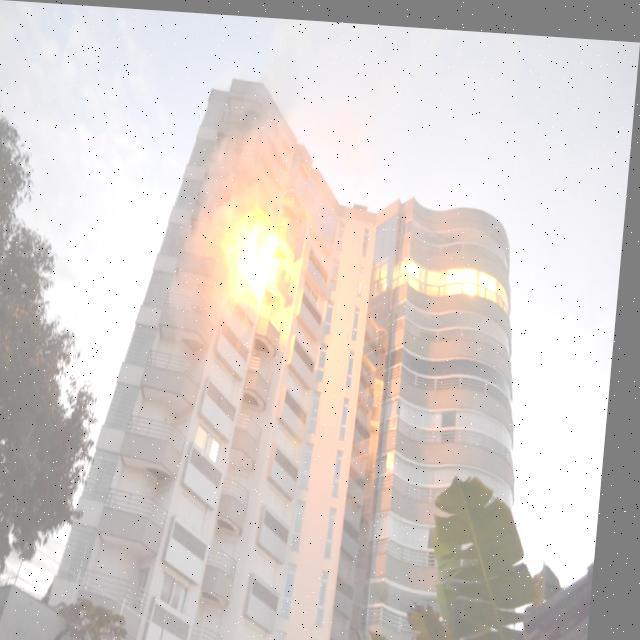Fire: (233, 215, 288, 298)
